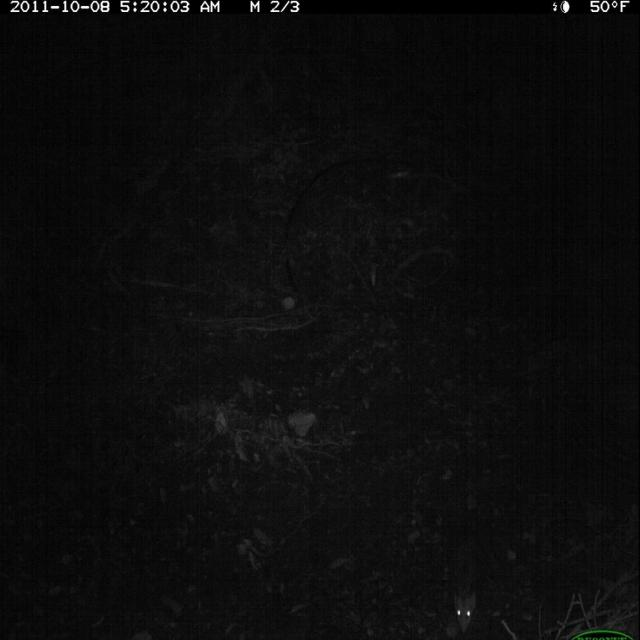opossum: (448, 516, 486, 635)
